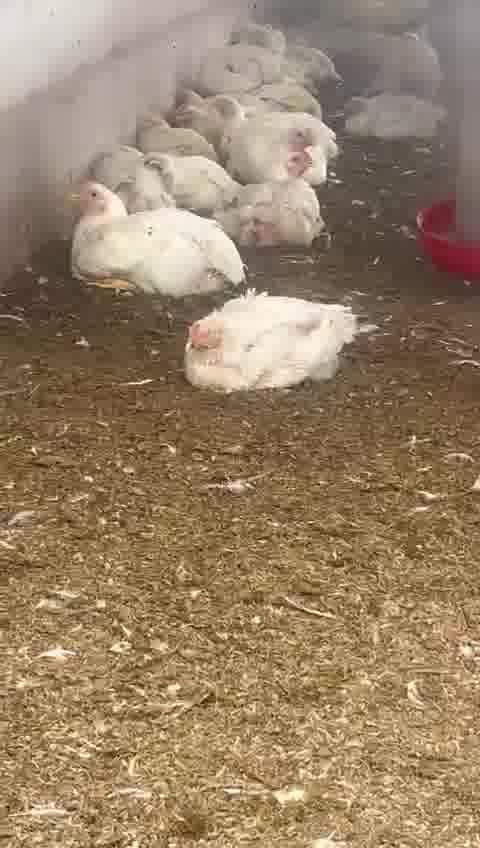AbNormal: (172, 285, 369, 389), (90, 145, 227, 208), (122, 99, 210, 161), (195, 45, 288, 98), (156, 75, 231, 134)
Normal: (56, 185, 246, 293), (218, 152, 332, 244), (205, 87, 334, 160), (324, 75, 453, 148), (227, 115, 335, 175)
